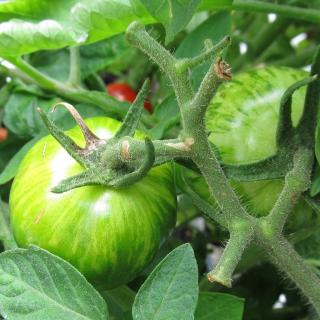Tomato: (9, 78, 176, 294), (182, 44, 320, 247), (106, 79, 152, 113)
